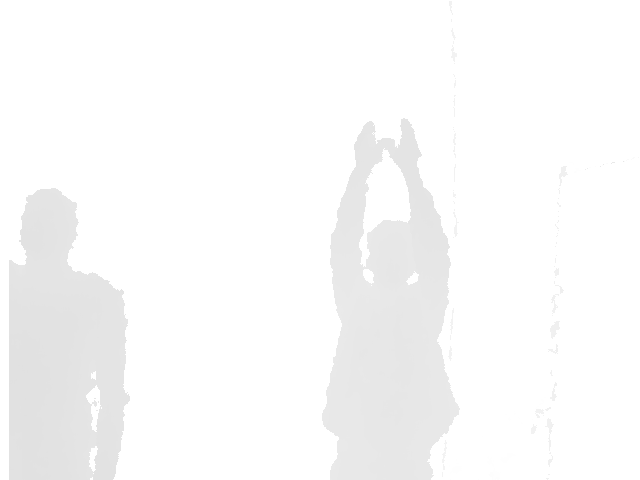hand: (388, 118, 421, 174), (354, 120, 387, 170)
head: (19, 188, 77, 269), (366, 218, 417, 283)
person: (321, 117, 462, 480), (8, 187, 131, 480)
